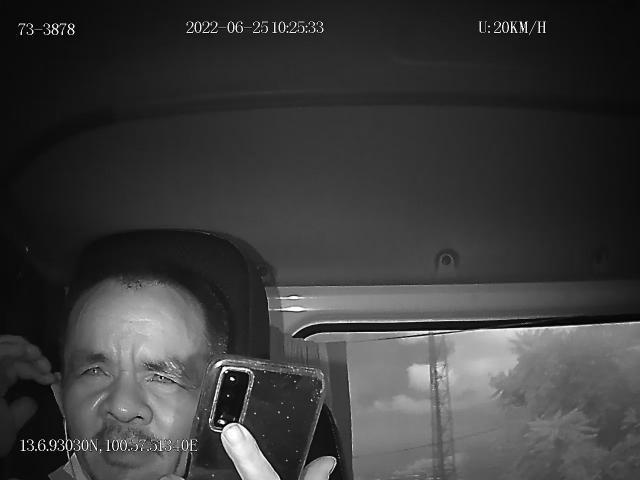PhoneUse: (190, 354, 326, 480)
SafeDriving: (140, 358, 194, 396), (70, 352, 118, 388)
